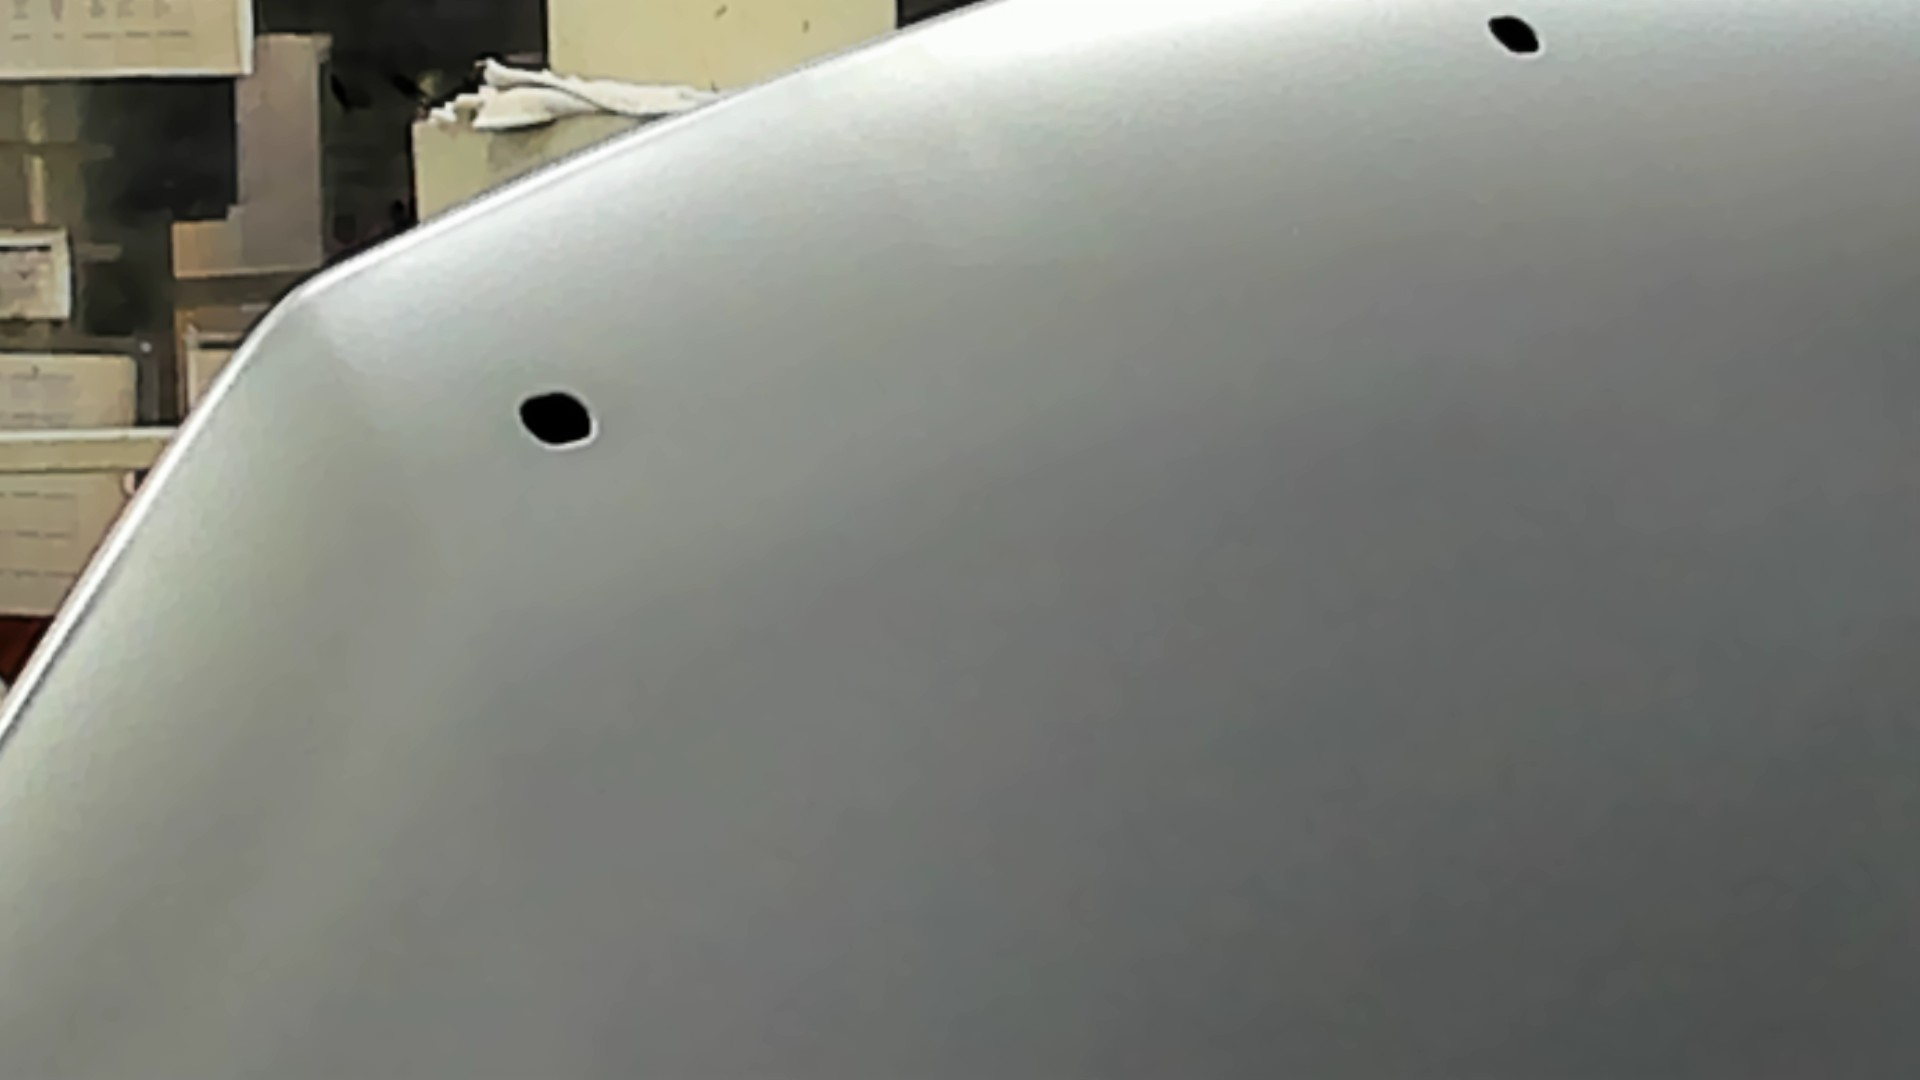amorfo: (520, 388, 597, 447), (1480, 15, 1549, 58)
